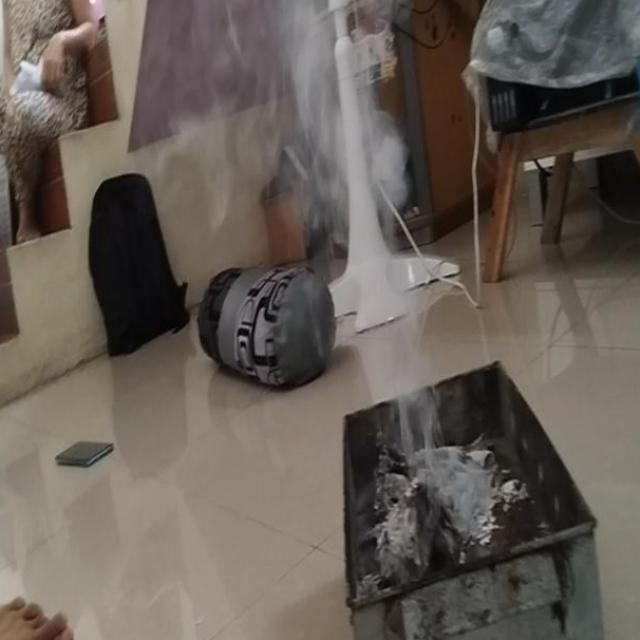fire: (189, 0, 411, 220), (373, 227, 439, 447)
